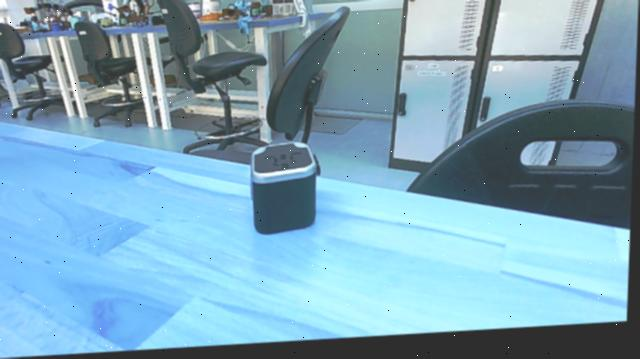adapter: (244, 139, 327, 244)
